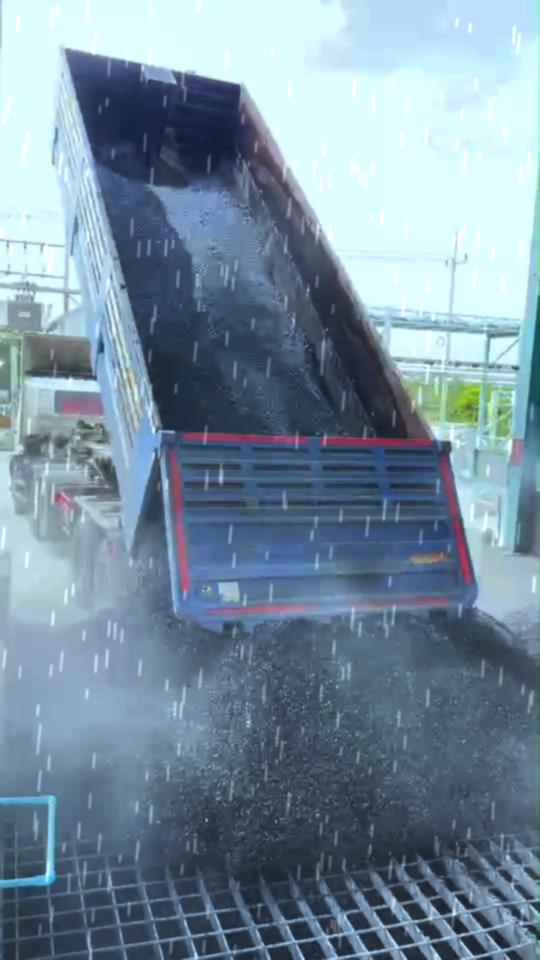gravel: (120, 549, 537, 865), (98, 166, 341, 433)
